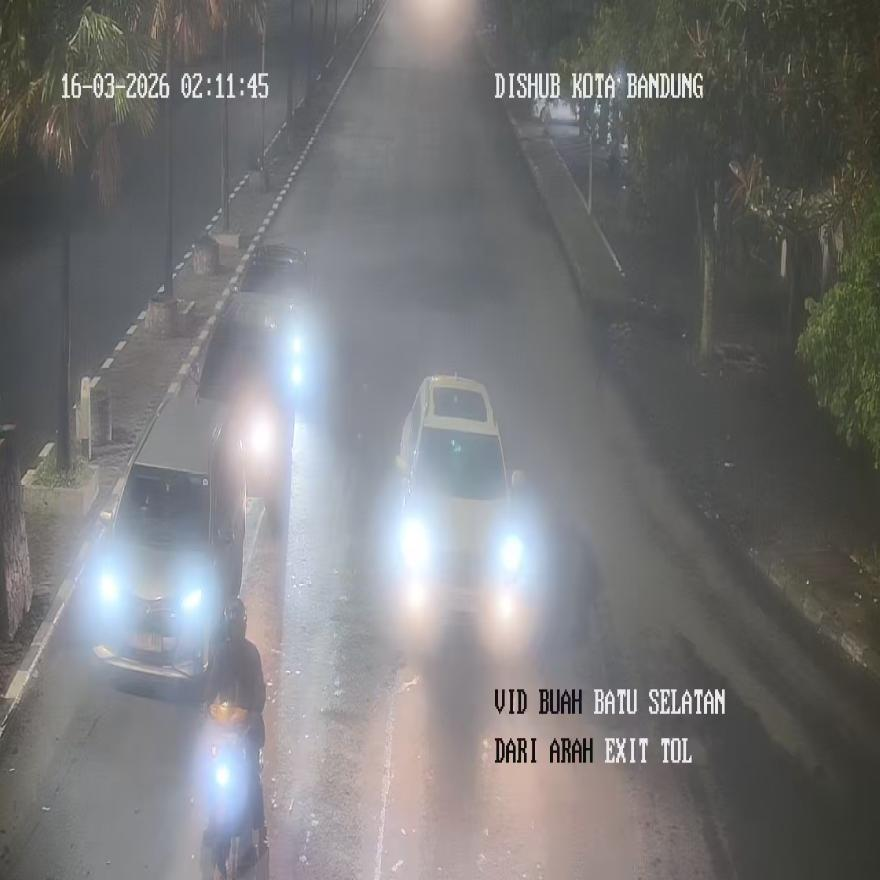Mobil: (88, 384, 245, 684), (394, 374, 529, 640), (193, 290, 297, 523)
Motor: (199, 702, 264, 878)
